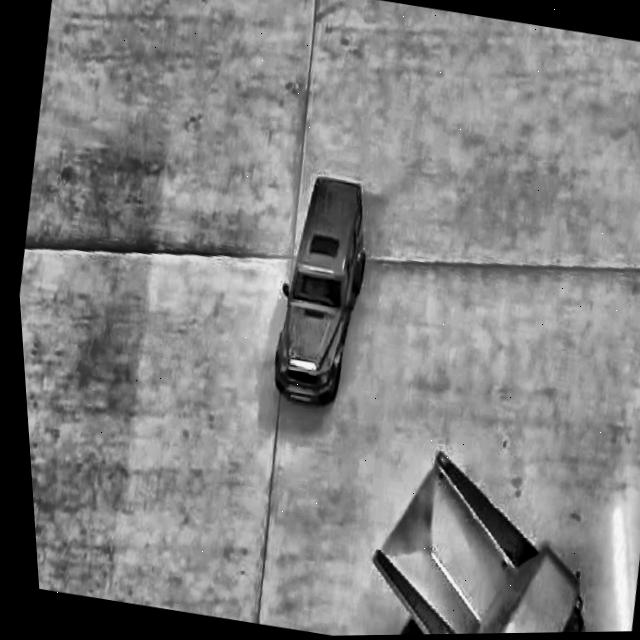dump_truck: (338, 425, 601, 636)
light_vehicle: (247, 159, 382, 403)
